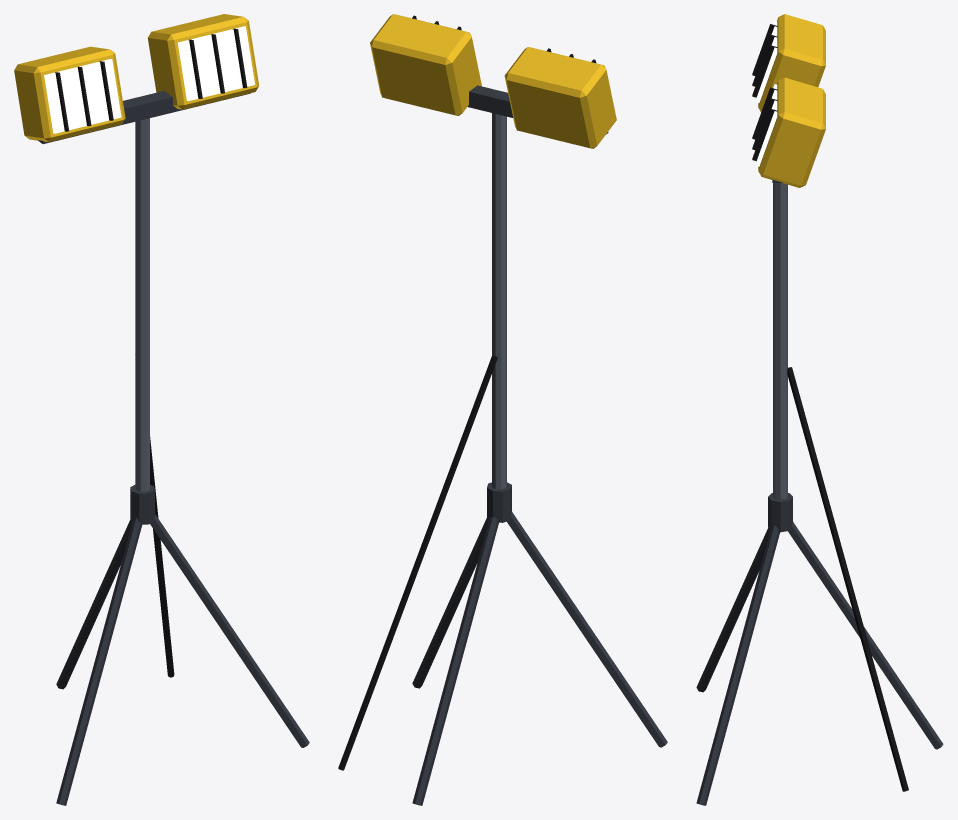
File: Work_Lamp.fbx
3 views of the same model, side by side, from view 1: azimuth 30°, elevation 25°; view 2: azimuth 150°, elevation 25°; view 3: azimuth 270°, elevation 25° (orthographic). The views are drawn at different scales.
Parts seen in each view (by area): view 1: Work_Lamp; view 2: Work_Lamp; view 3: Work_Lamp.
Part boxes in pixels (x1=…): Work_Lamp: x1=14, y1=14, x2=309, y2=805; Work_Lamp: x1=338, y1=14, x2=667, y2=805; Work_Lamp: x1=696, y1=14, x2=943, y2=805.
Size of the model in its own units: 0.6774 by 1.81 by 0.5918.
Materials: 1 (1 with a texture image).
